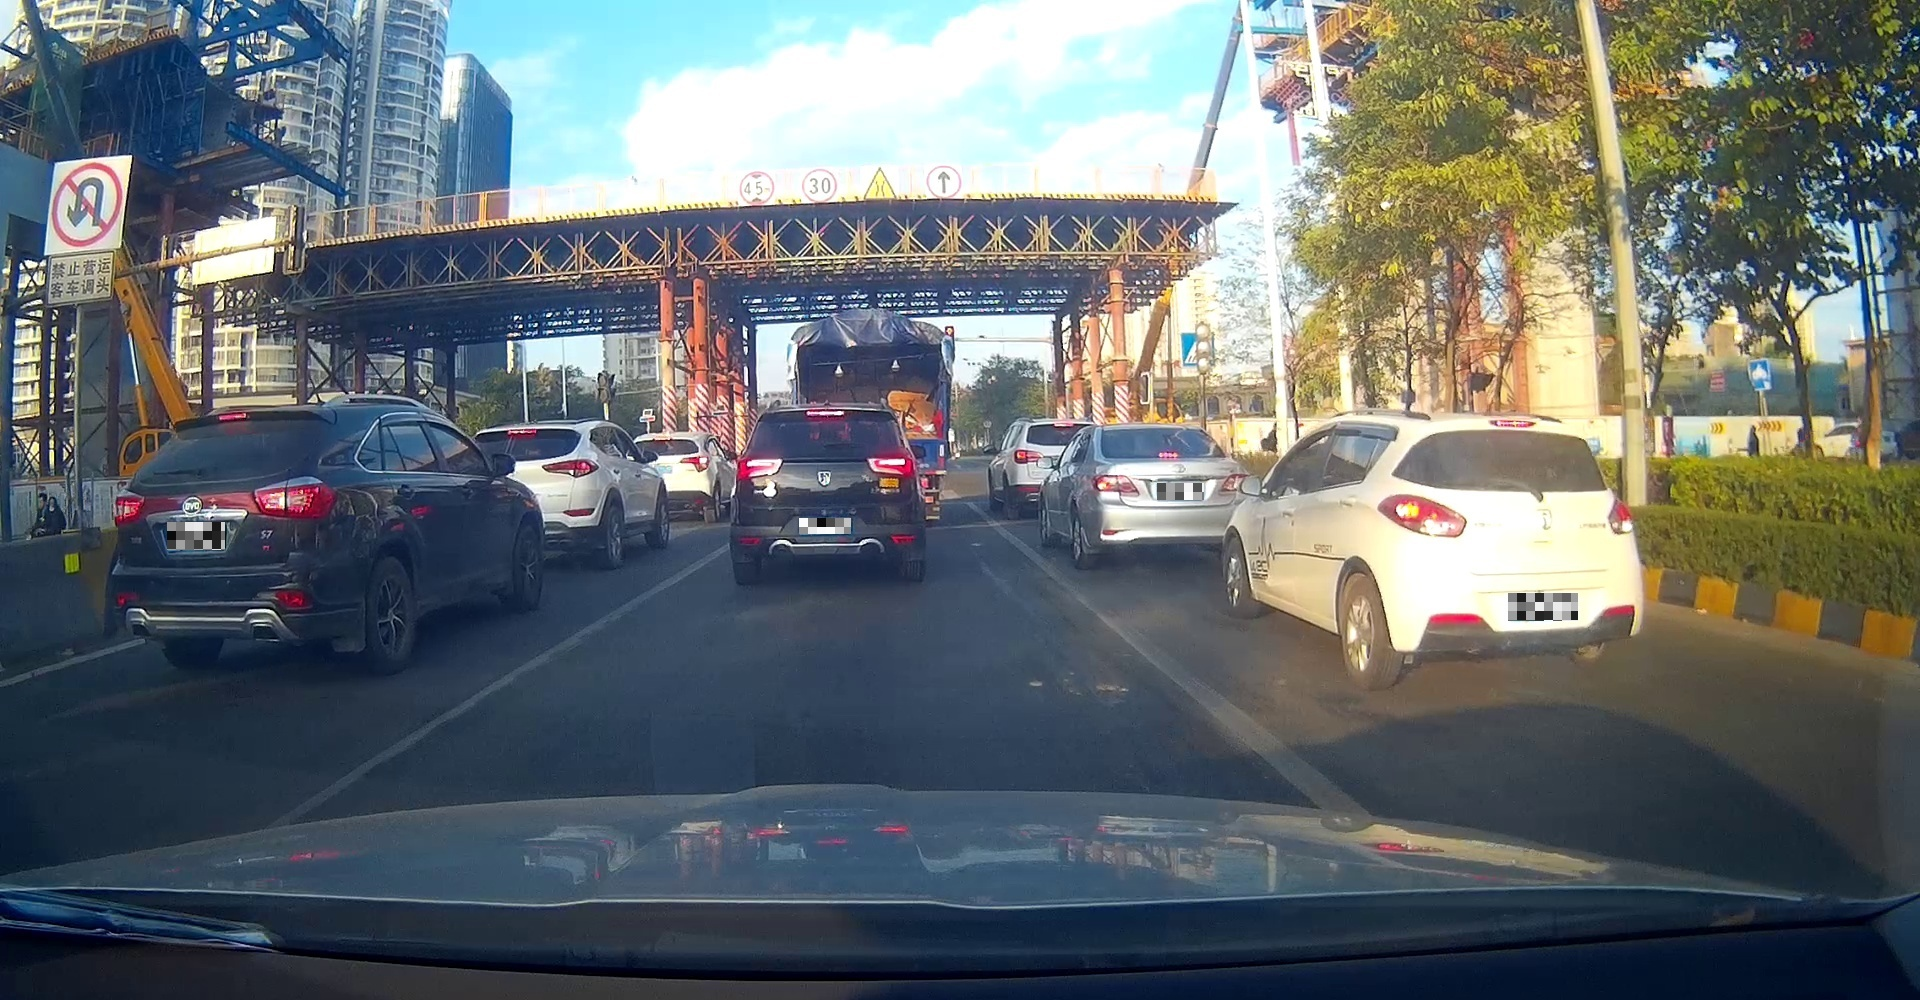L_light: (1377, 494, 1467, 539), (112, 487, 143, 525), (735, 457, 783, 481), (1092, 475, 1142, 492)
R_light: (253, 475, 338, 520), (1608, 497, 1634, 534), (866, 457, 916, 476), (1220, 472, 1250, 491)
T_light: (1490, 419, 1537, 429), (806, 409, 844, 416), (217, 412, 248, 421), (1157, 452, 1178, 458)
day-brake: (1373, 414, 1644, 692), (109, 404, 345, 671), (728, 401, 927, 581), (1090, 423, 1250, 570)
plate_1: (168, 522, 225, 549)
plate_2: (799, 518, 851, 534)
plate_3: (1157, 484, 1204, 500)
plate_4: (1509, 593, 1578, 621)
